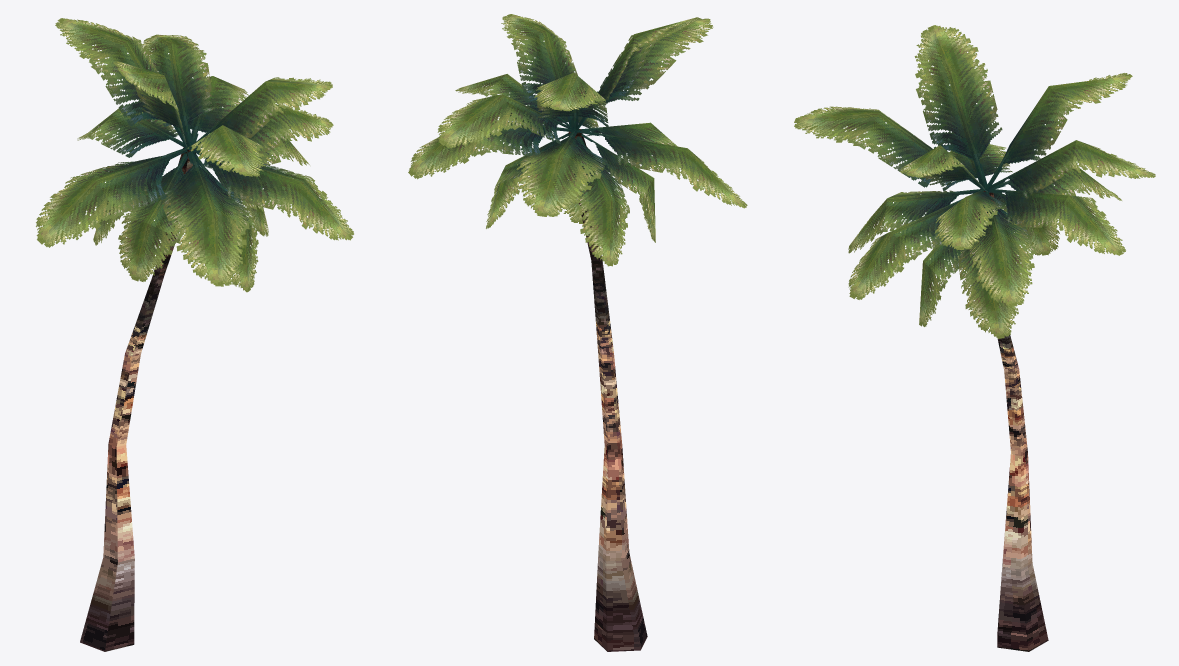
File: stage-east-p2-78.glb
3 renders of one model, left to right at view 1: azimuth 30°, elevation 25°; view 2: azimuth 150°, elevation 25°; view 3: azimuth 270°, elevation 25°, orthographic.
Bounding box in the file's own units: 8.73 × 17.07 × 9.66.
2 materials, 2 textured.
